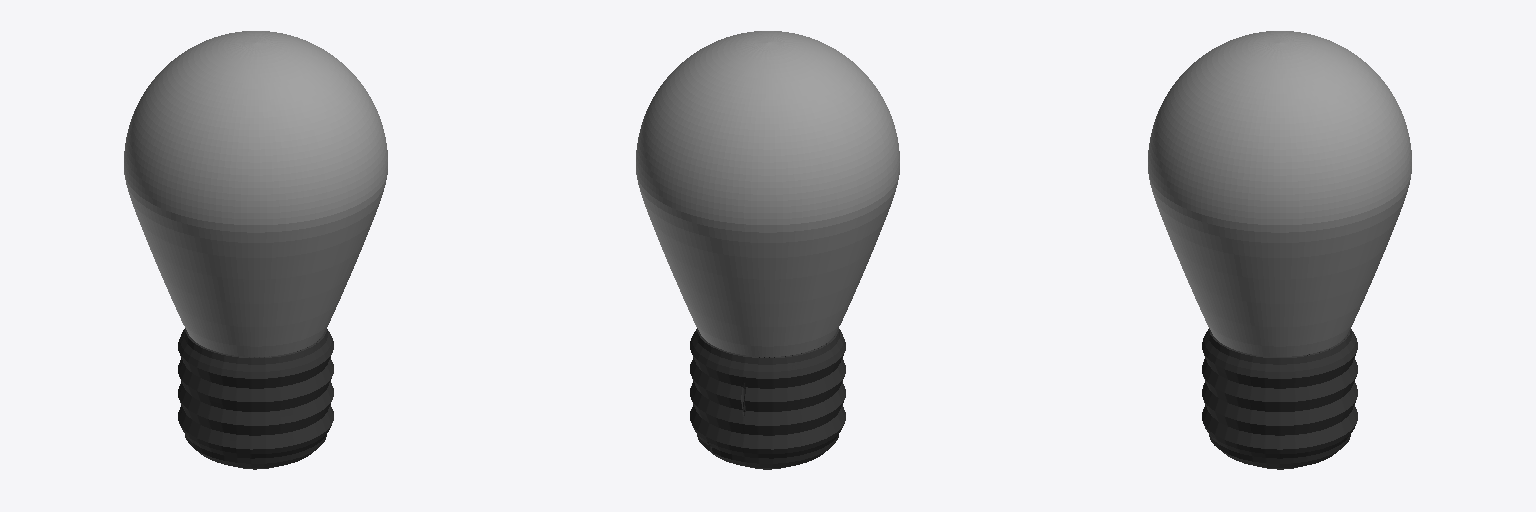
Rendered from lightbulb_ks.obj.
The picture shows the model from 3 angles: view 1: azimuth 30°, elevation 25°; view 2: azimuth 150°, elevation 25°; view 3: azimuth 270°, elevation 25°; orthographic projection.
Visible parts, largest first — view 1: Sphere.001, Cylinder.001_Cylinder; view 2: Sphere.001, Cylinder.001_Cylinder; view 3: Sphere.001, Cylinder.001_Cylinder.
Boxes of the visible parts, <box> form: Sphere.001: <box>124,31,387,356</box>; Cylinder.001_Cylinder: <box>178,328,333,469</box>; Sphere.001: <box>636,31,899,356</box>; Cylinder.001_Cylinder: <box>690,328,845,469</box>; Sphere.001: <box>1148,31,1411,356</box>; Cylinder.001_Cylinder: <box>1202,328,1357,469</box>.
Bounding box in the file's own units: 3.72 × 6.62 × 3.72.